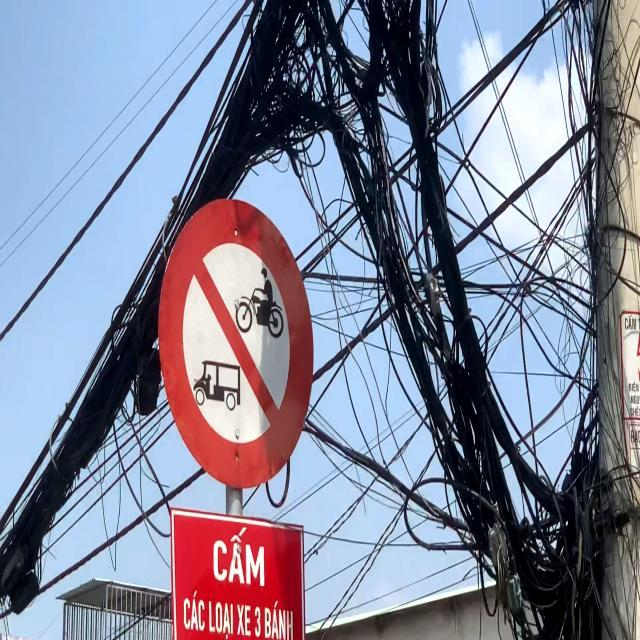P-104: (160, 197, 312, 485)
